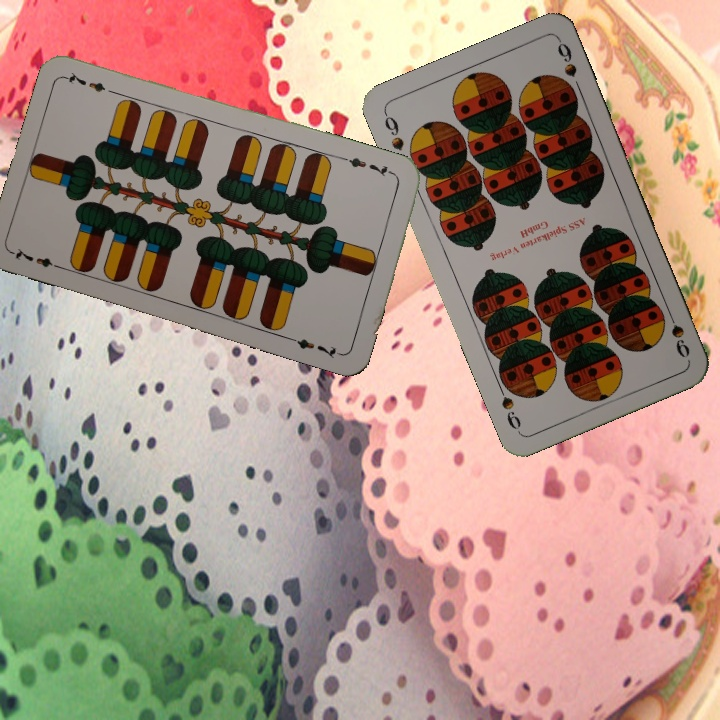E7: (9, 243, 67, 273), (341, 153, 399, 180)
S9: (662, 304, 693, 360), (380, 108, 407, 153)
